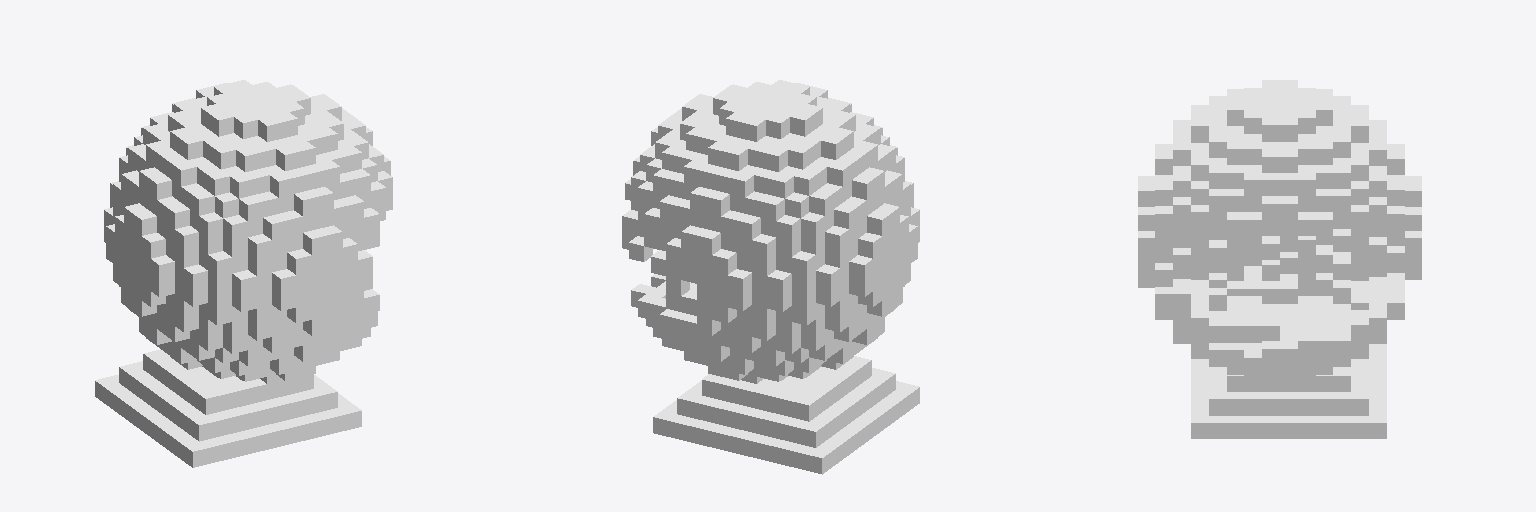
The model's file is pacman3.obj.
The picture shows the model from 3 angles: view 1: azimuth 30°, elevation 25°; view 2: azimuth 150°, elevation 25°; view 3: azimuth 270°, elevation 25°; orthographic projection.
Visible parts, largest first — view 1: object 1; view 2: object 1; view 3: object 1.
Part boxes in pixels (x1,y1,x2,y2): object 1: (95, 80, 392, 467); object 1: (622, 80, 919, 474); object 1: (1138, 80, 1421, 438).
Size of the model in its own units: 1.6 by 1.9 by 1.6.